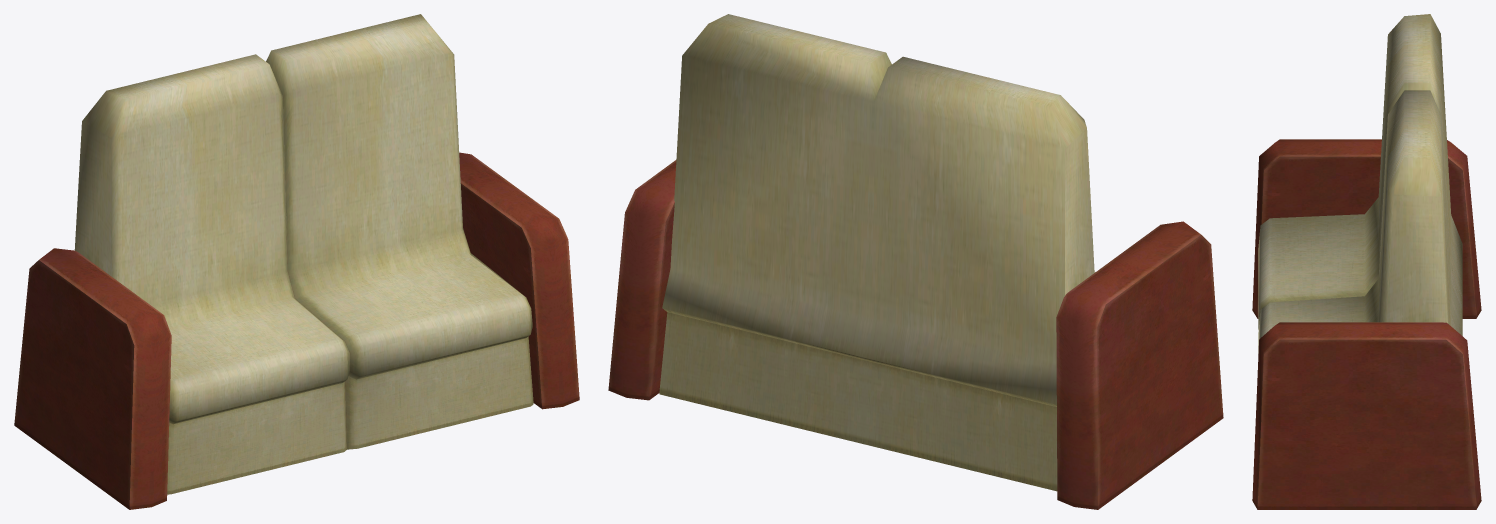
The model's file is frn_all_couch_love_seat_s1_l0.fbx.
3 views of the same model, side by side, from view 1: azimuth 30°, elevation 25°; view 2: azimuth 150°, elevation 25°; view 3: azimuth 270°, elevation 25° (orthographic). The views are drawn at different scales.
Parts seen in each view (by area): view 1: mesh_node; view 2: mesh_node; view 3: mesh_node.
Boxes of the visible parts, left/top/right/bottom form: mesh_node: left=14, top=14, right=579, bottom=509; mesh_node: left=608, top=14, right=1223, bottom=509; mesh_node: left=1252, top=14, right=1481, bottom=509.
Size of the model in its own units: 1.67 by 1.19 by 0.7761.
